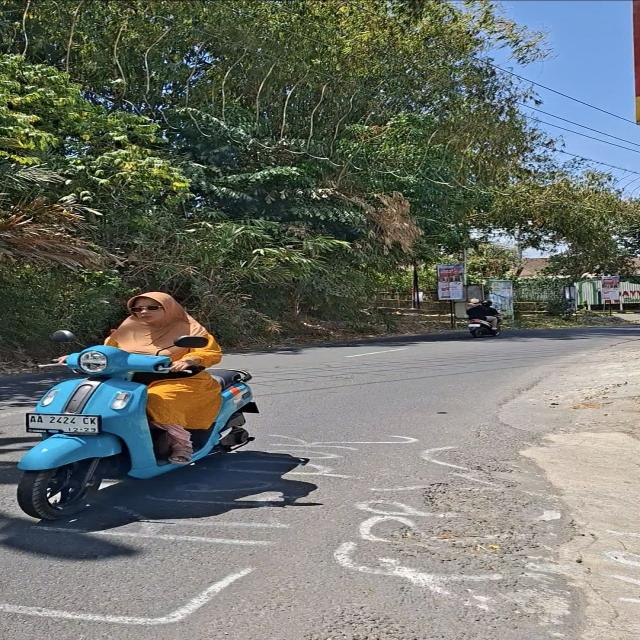WithHelmet: (481, 300, 503, 320)
WithoutHelmet: (54, 291, 228, 463), (465, 298, 499, 332)
